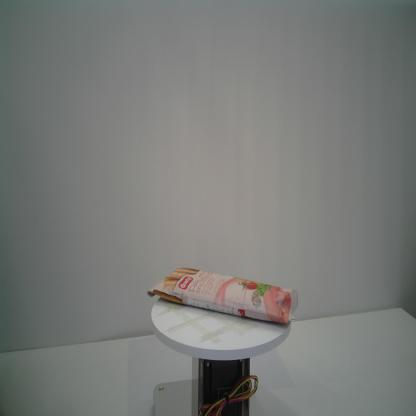Dessert: (146, 266, 300, 328)
